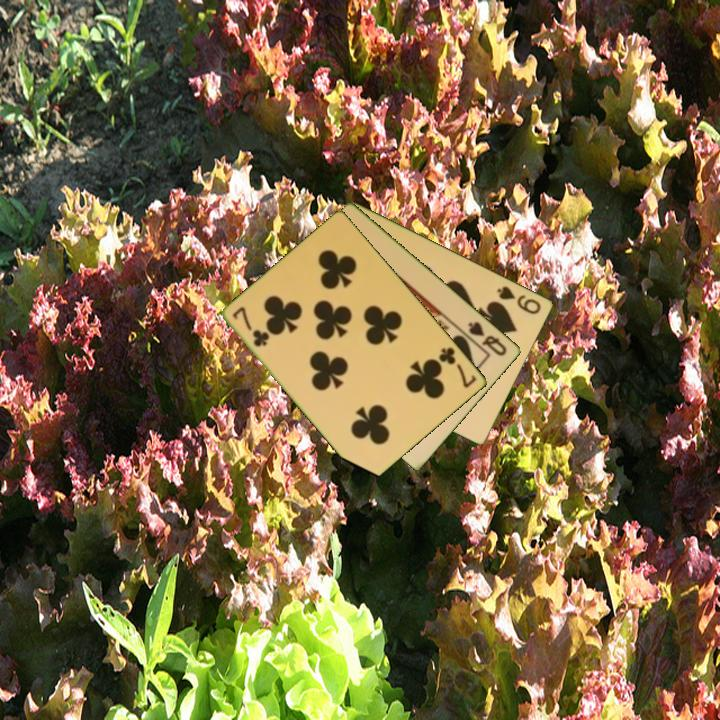7c: (435, 344, 480, 391), (229, 303, 272, 350)
9s: (494, 282, 544, 317)
Qs: (465, 318, 510, 359)
